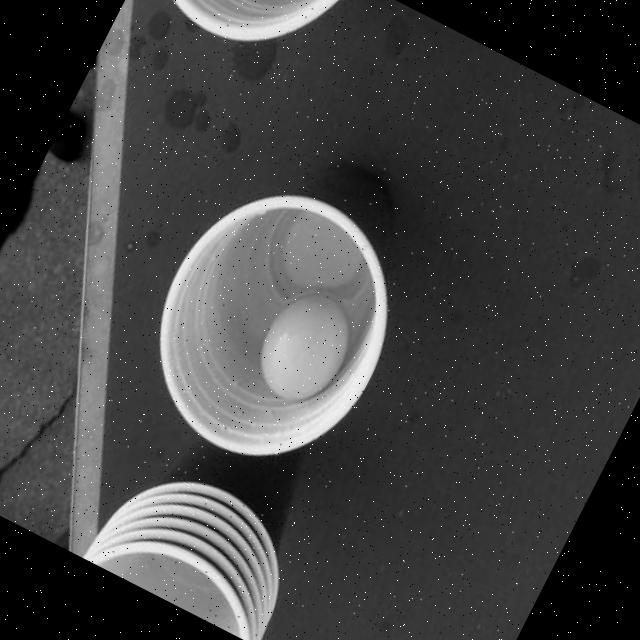ping-pong-ball: (242, 276, 366, 416)
